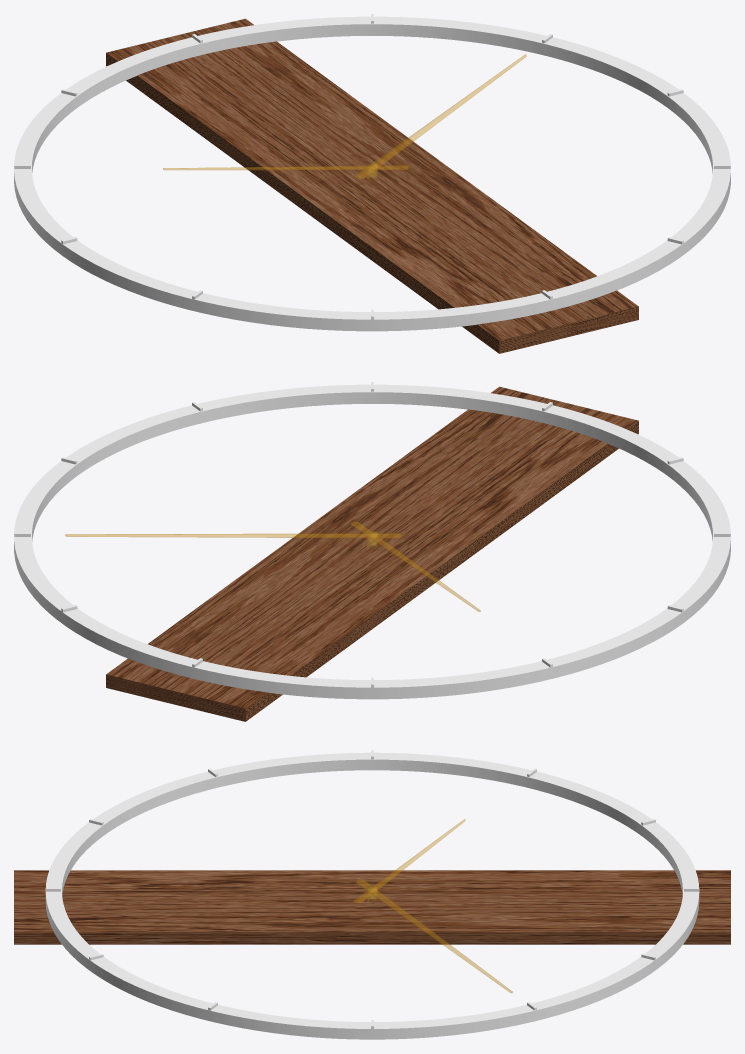
File: golden-ring-clock.glb
The picture shows the model from 3 angles, top to bottom: view 1: azimuth 30°, elevation 25°; view 2: azimuth 150°, elevation 25°; view 3: azimuth 270°, elevation 25°; orthographic projection. The views are drawn at different scales.
Visible parts, largest first — view 1: wood, Circle, hand, hour; view 2: wood, Circle, hand, hour; view 3: wood, Circle, hand, hour.
Boxes of the visible parts, x1,y1,x2,y2 form: wood: (106, 18, 638, 353); Circle: (14, 16, 730, 331); hand: (163, 54, 526, 178); hour: (14, 14, 730, 319); wood: (106, 386, 638, 721); Circle: (14, 384, 730, 699); hand: (65, 521, 480, 611); hour: (14, 382, 730, 687); wood: (14, 870, 730, 944); Circle: (45, 752, 699, 1039); hand: (353, 819, 512, 992); hour: (46, 750, 698, 1028).
Size of the model in its own units: 3.96 by 0.1691 by 4.34.
Materials: 4 (1 with a texture image).
